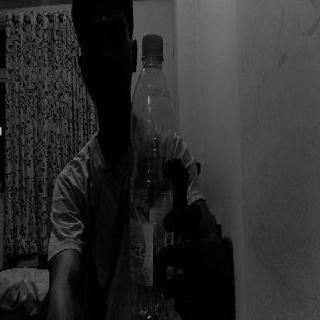plastic_bottles: (129, 36, 176, 316)
